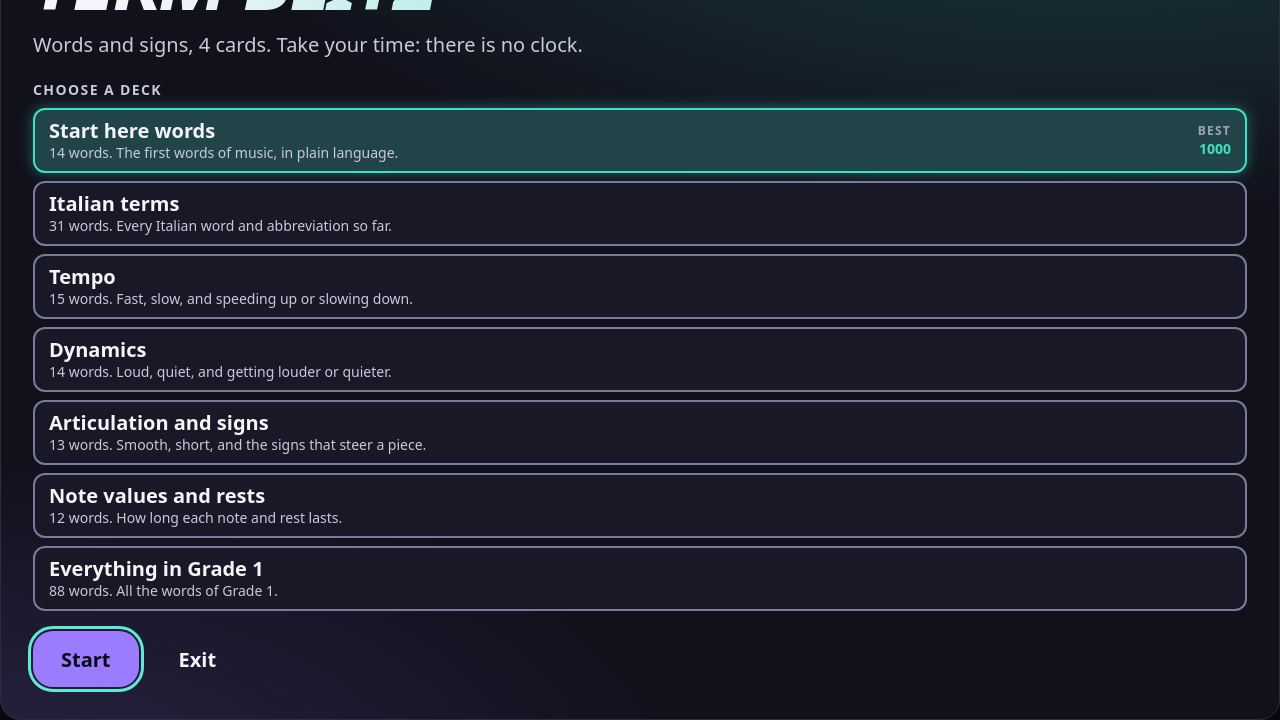
Test: untimed round by pointer: start -> play -> reveal -> results › does not claim a personal best for a round that scored nothing or did not beat it
This screenshot has width=1280, height=720.
(page scrolled)
Click the button "Start".
click(86, 659)  # box 33,631 -> 138,687
(page scrolled)
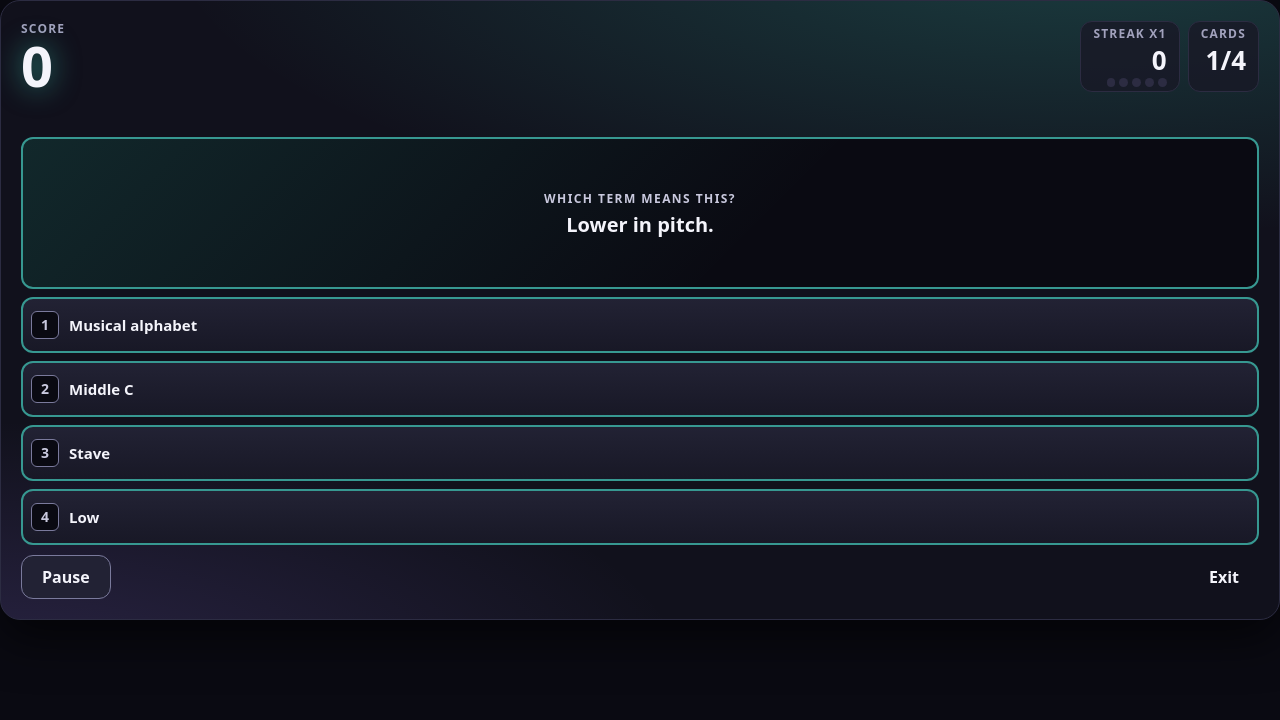
Click the button "4 Low".
click(84, 517)  # box 21,489 -> 1259,545
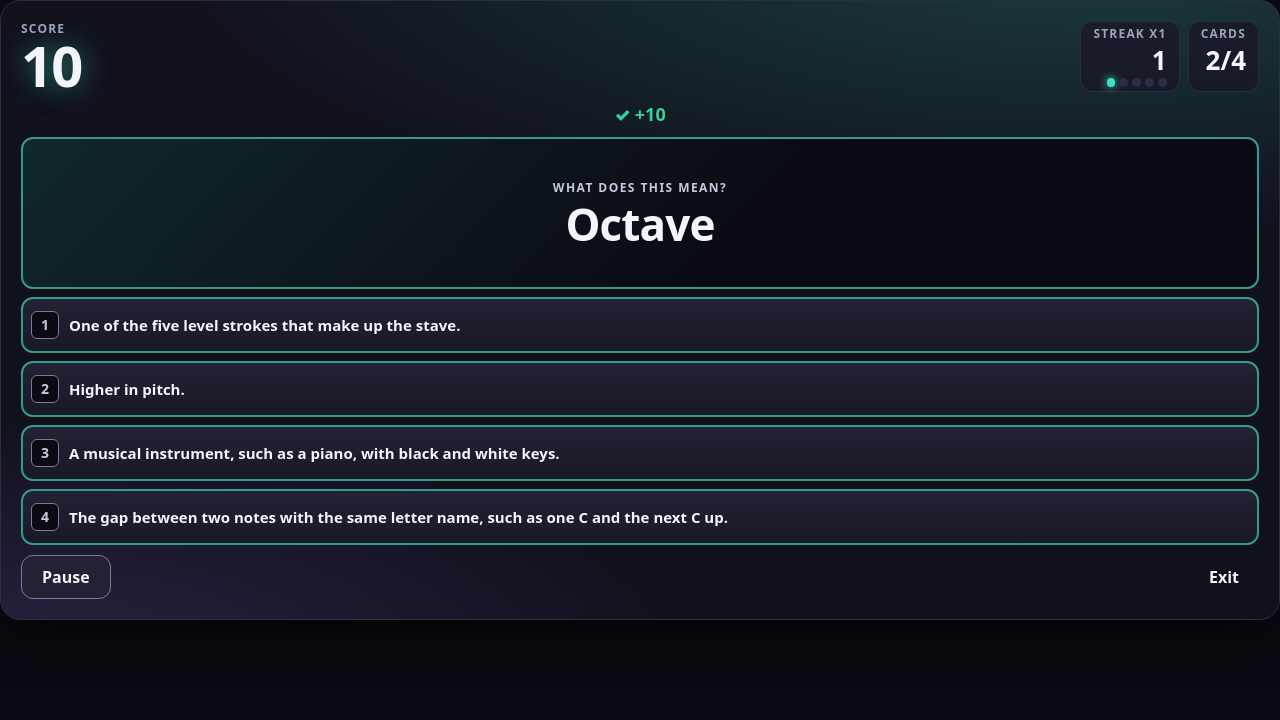
Click the 4th button.
click(640, 517)  # box 21,489 -> 1259,545
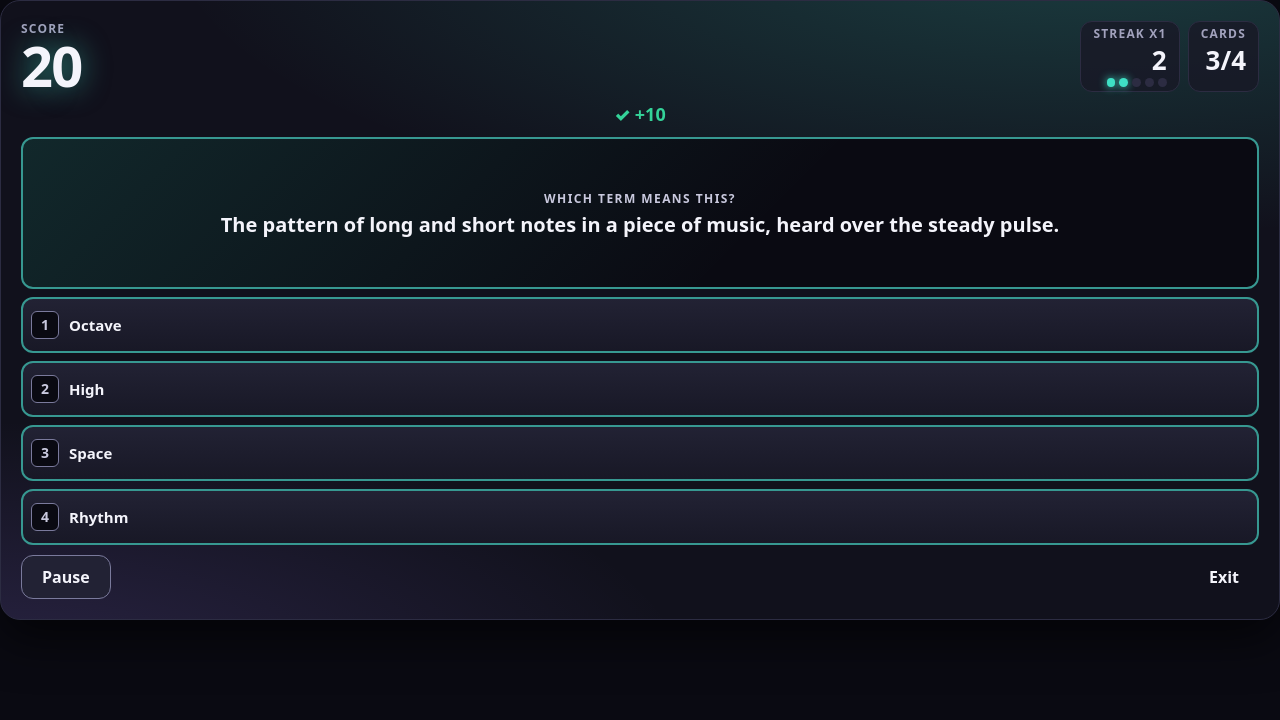
Click the button "4 Rhythm".
click(99, 517)  # box 21,489 -> 1259,545
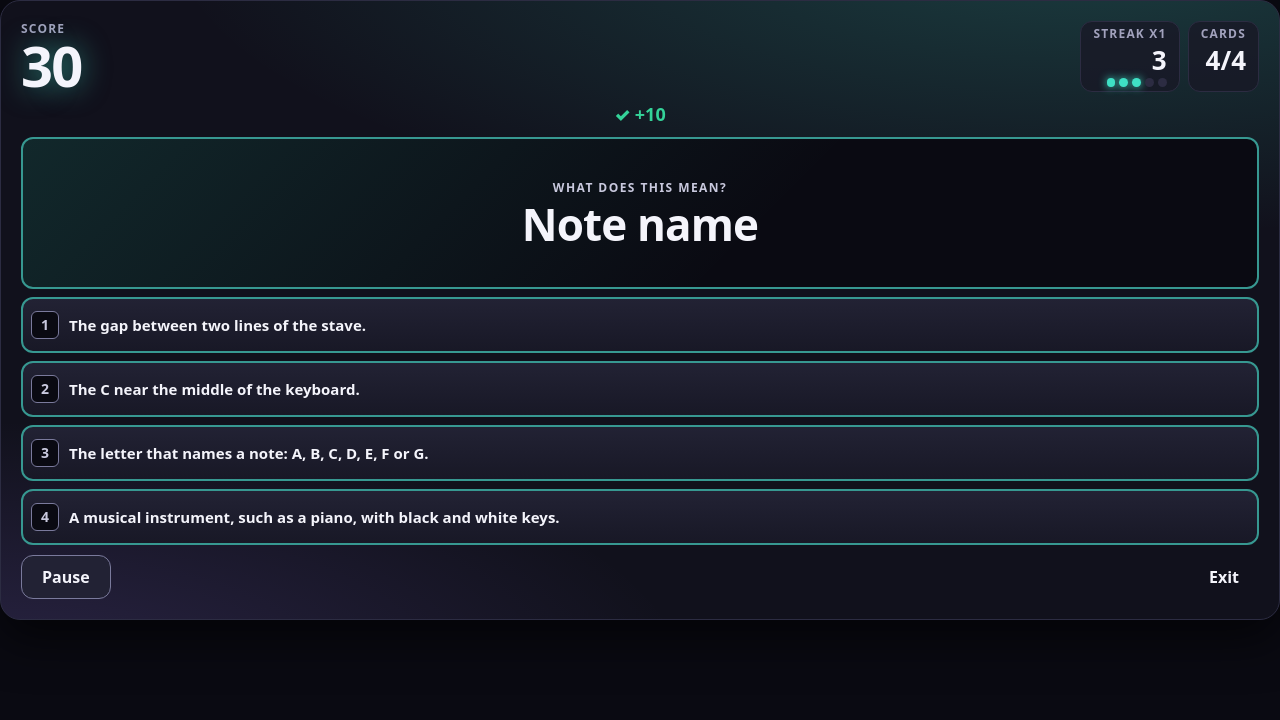
Click the button "3 The letter that names a note: A, B, C, D, E, F or G.".
click(249, 453)  # box 21,425 -> 1259,481
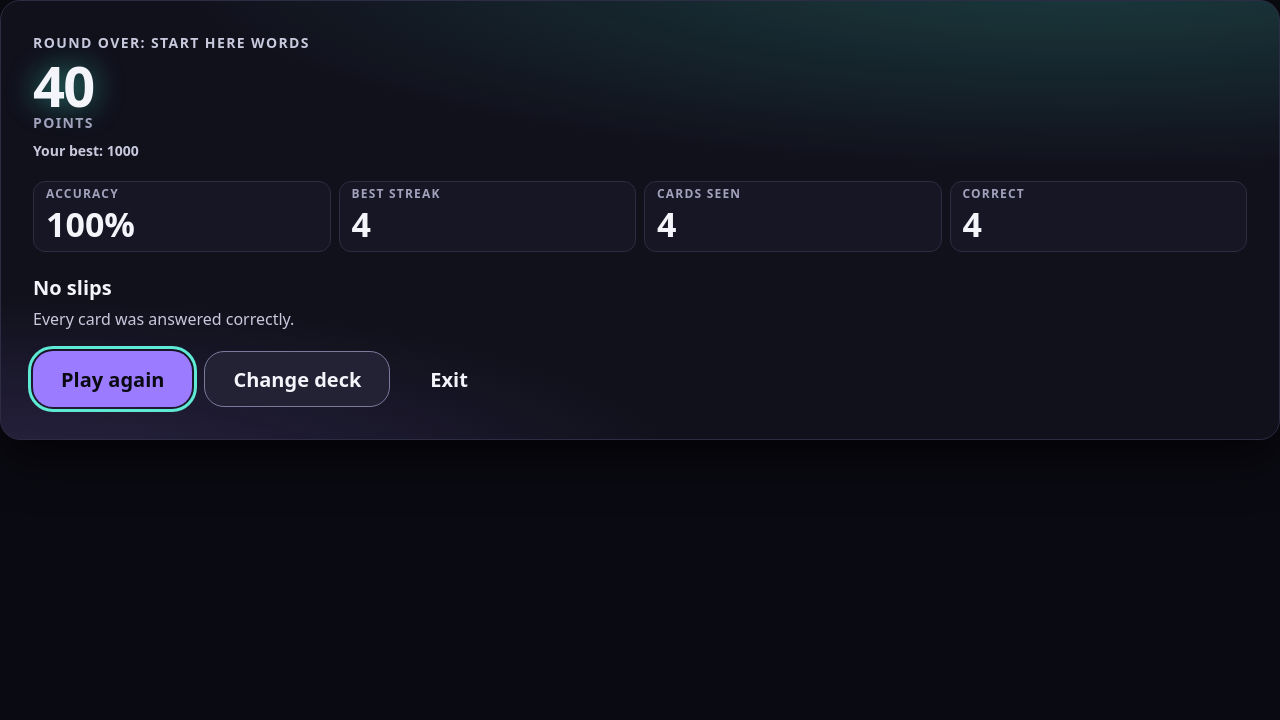
Expected: the text "Your best: 1000" is shown, 33,141 -> 139,160
